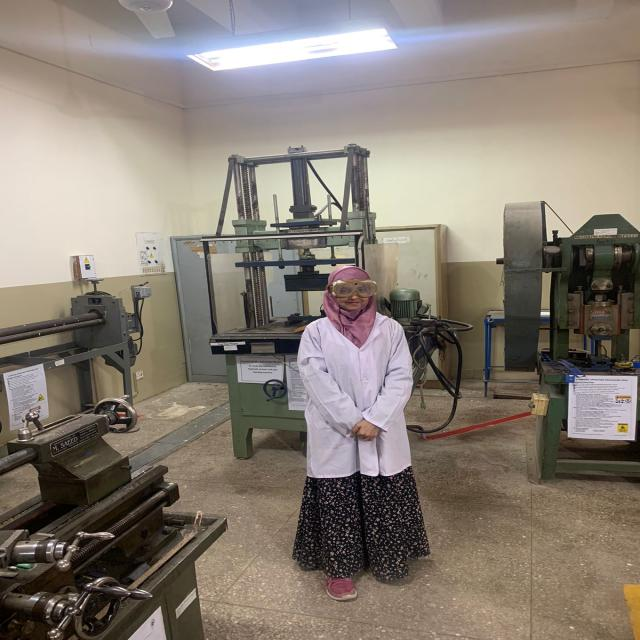googles: (331, 279, 379, 299)
labcoat: (296, 310, 416, 478)
